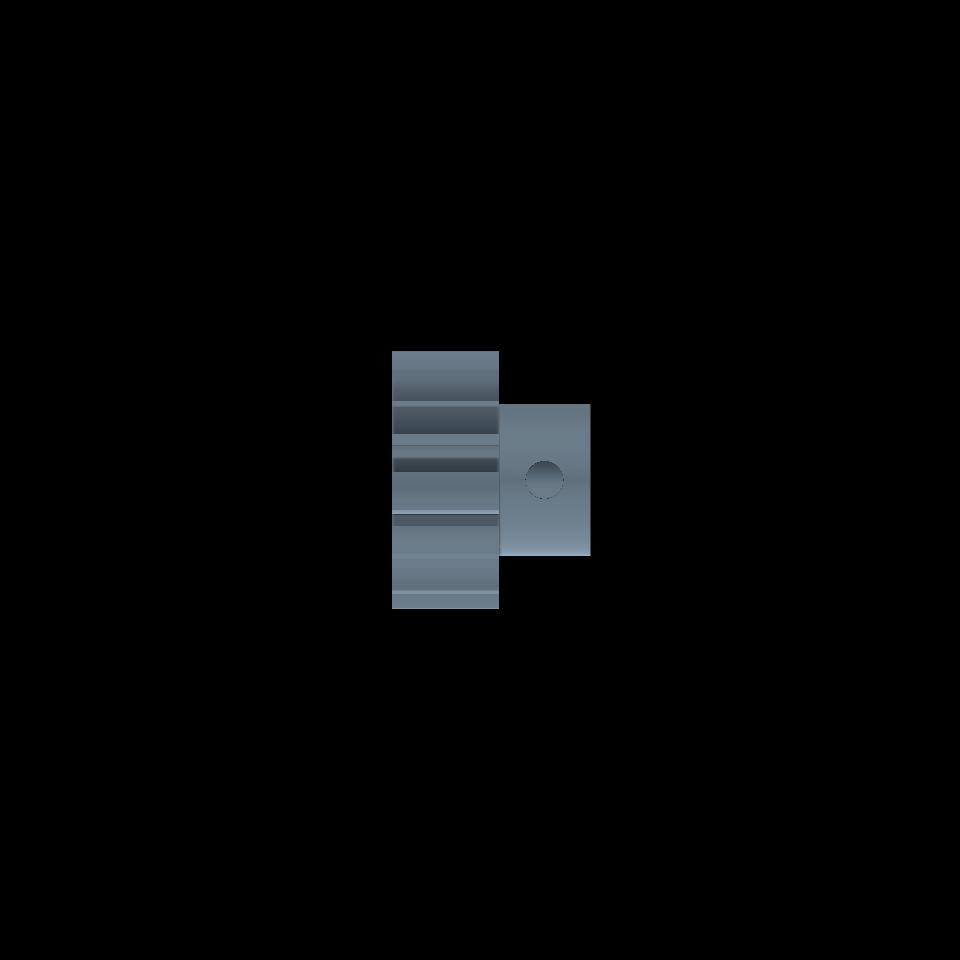Straight: (391, 350, 500, 608)
